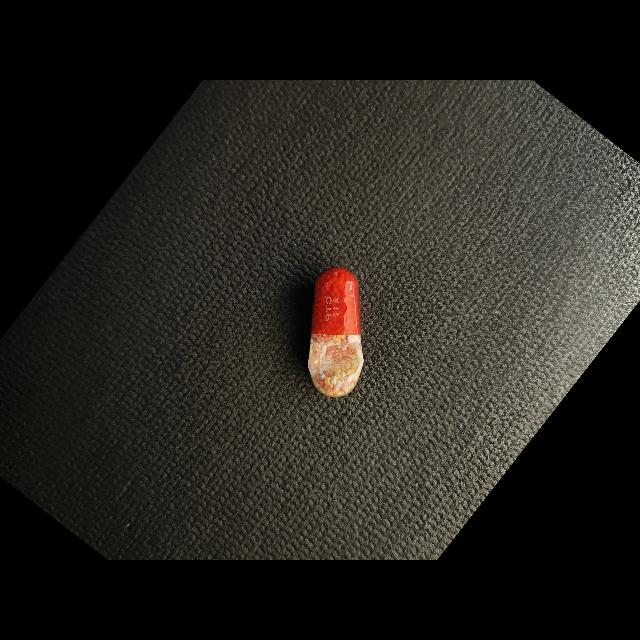Defective Capsule: (308, 267, 364, 397)
